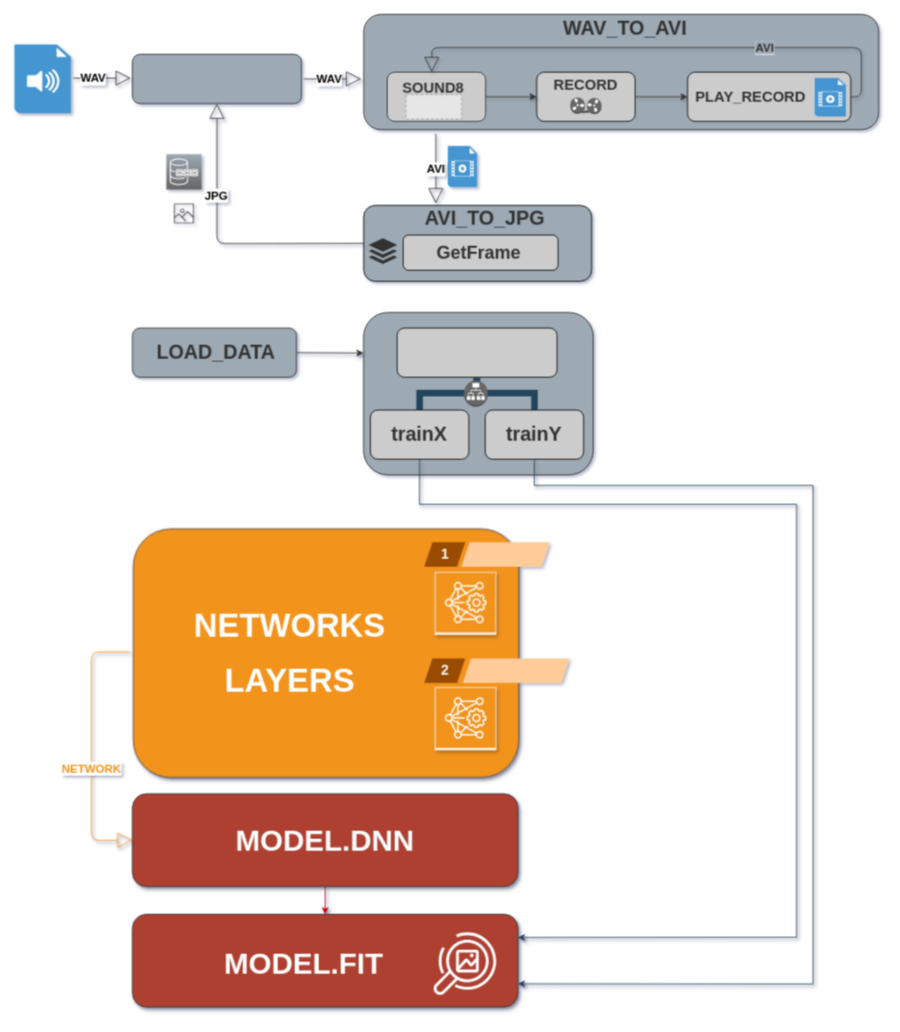
The diagram is 900 pixels wide and 1032 high, and some of its shapes have lost their labels. Grey dashed boxes stand in for pictures. Each missing label, with the centre of its shape:
"CLASS_LIST" belongs at [476,352].
"ShakedNet" belongs at [505,554].
"ShooshleNet" belongs at [515,670].
"WAV_DIR_TO_JPG" belongs at [216,78].
